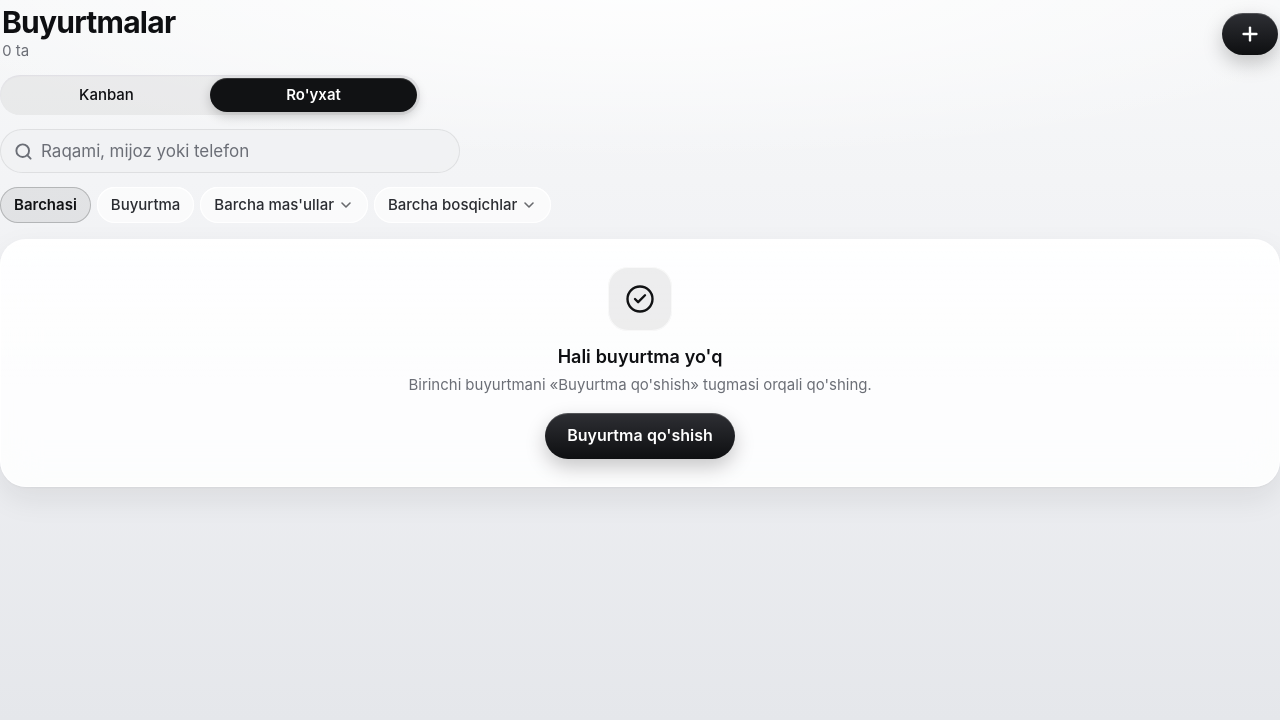
Scenario: a company with no orders says so, and offers to add the first
Check: the text "Hali buyurtma yo'q" is shown, box [558, 346, 722, 367]
Check: the text "0 ta" is shown, box [2, 41, 29, 60]
Click the button "Buyurtma qo'shish".
click(640, 436)  # box [545, 413, 735, 459]
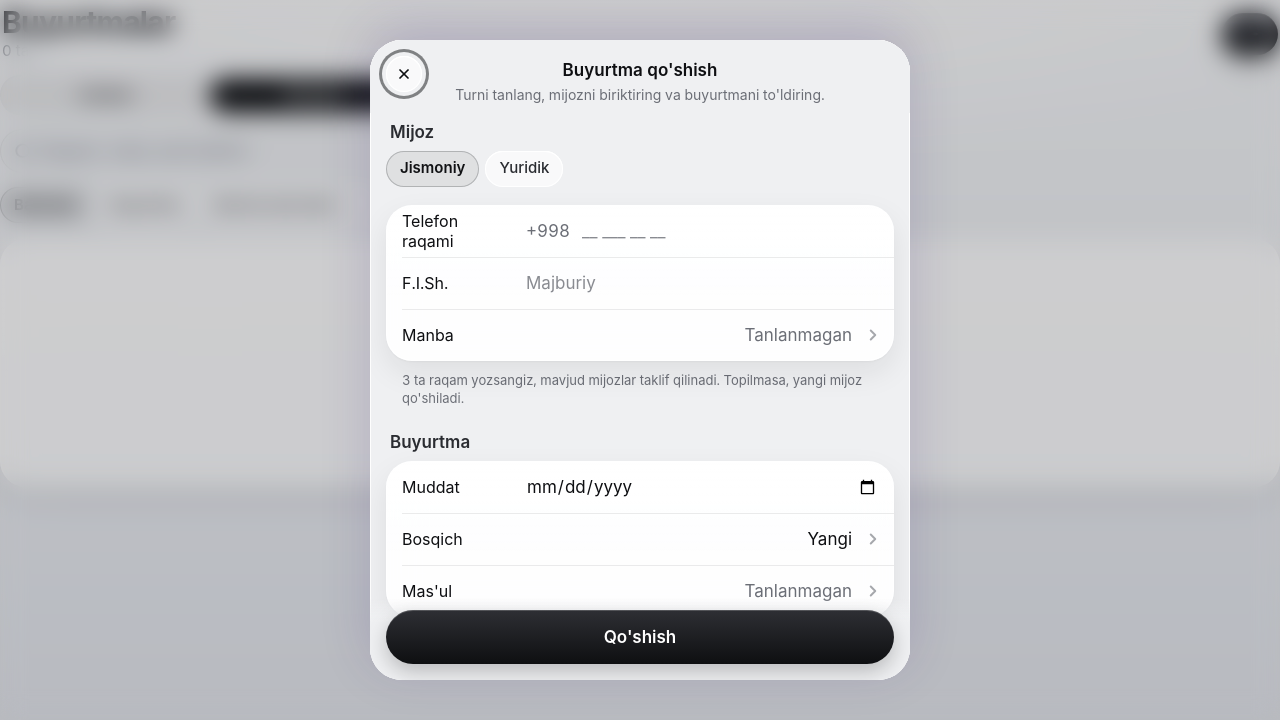
Check: the dialog "Buyurtma qo'shish" is shown, box [370, 40, 910, 680]
